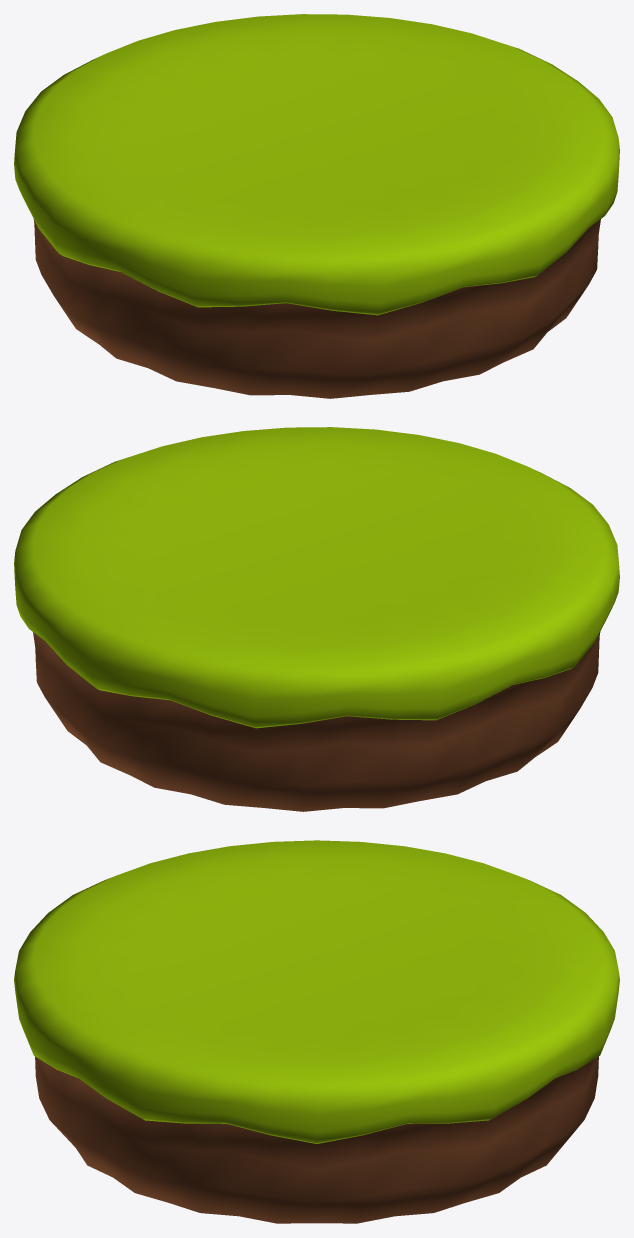
Rendered from islandd.fbx.
3 renders of one model, top to bottom at view 1: azimuth 30°, elevation 25°; view 2: azimuth 150°, elevation 25°; view 3: azimuth 270°, elevation 25°, orthographic.
Visible parts, largest first — view 1: pCylinder1; view 2: pCylinder1; view 3: pCylinder1.
Part boxes in pixels (x1,y1,x2,y2): pCylinder1: (14,14,619,398); pCylinder1: (14,427,619,811); pCylinder1: (14,840,619,1223).
Size of the model in its own units: 128 by 39.23 by 128.
